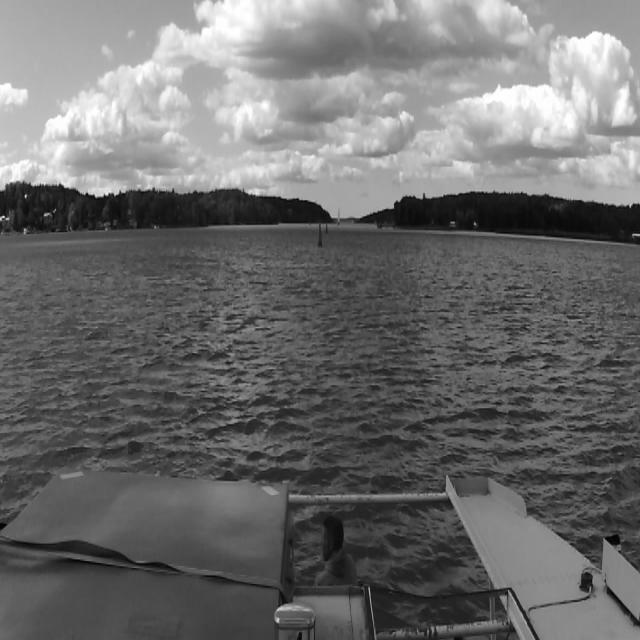buoy: (315, 218, 325, 250), (326, 222, 328, 235)
ship: (338, 206, 340, 225)
